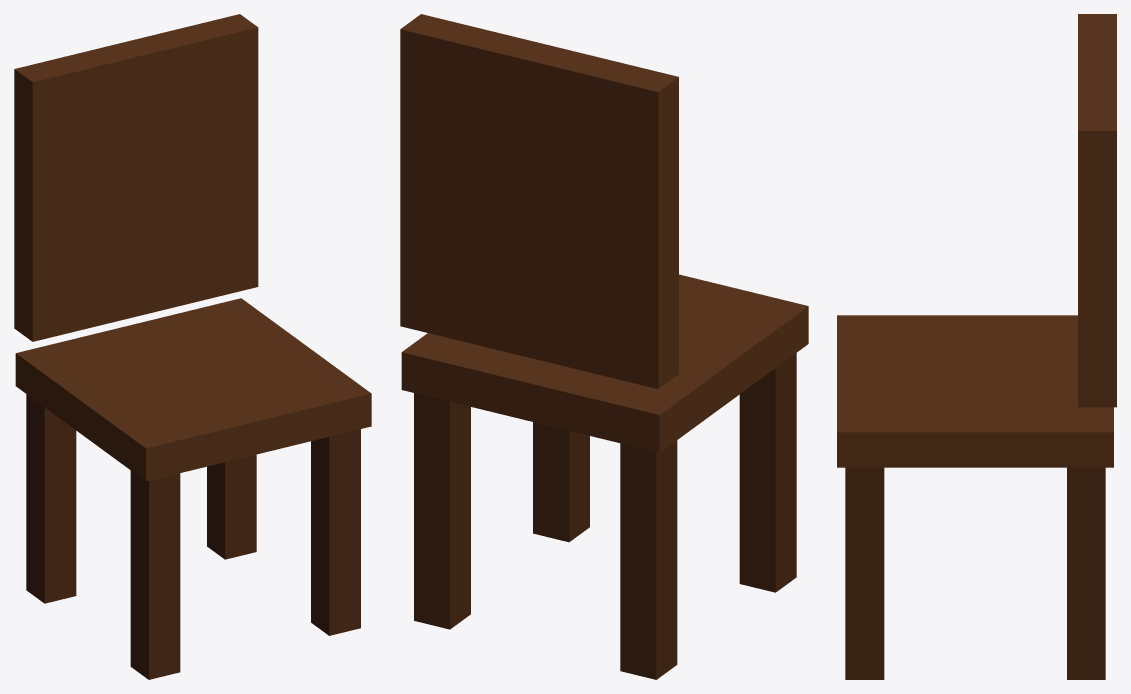
File: chair.obj
3 views of the same model, side by side, from view 1: azimuth 30°, elevation 25°; view 2: azimuth 150°, elevation 25°; view 3: azimuth 270°, elevation 25° (orthographic). The views are drawn at different scales.
Size of the model in its own units: 0.5 by 1.1 by 0.505.
